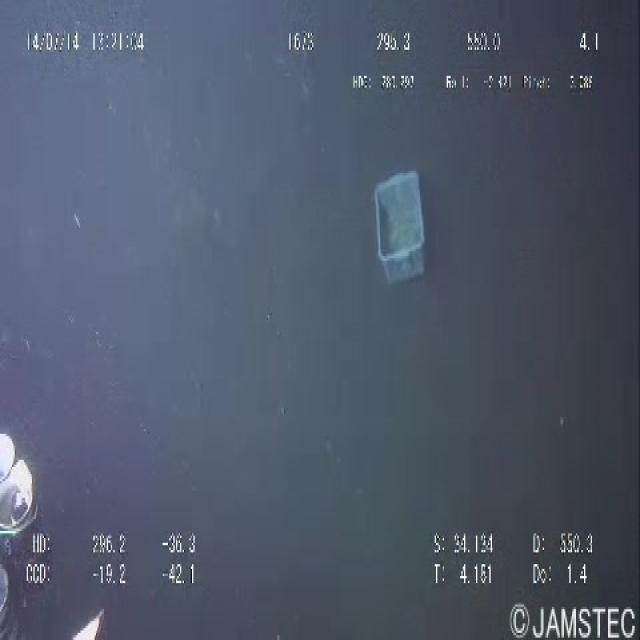plastic: (358, 156, 446, 304)
